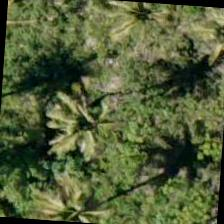Kelapa_Sawit: (25, 76, 121, 172), (16, 158, 111, 223), (85, 0, 180, 63), (179, 5, 223, 86)
